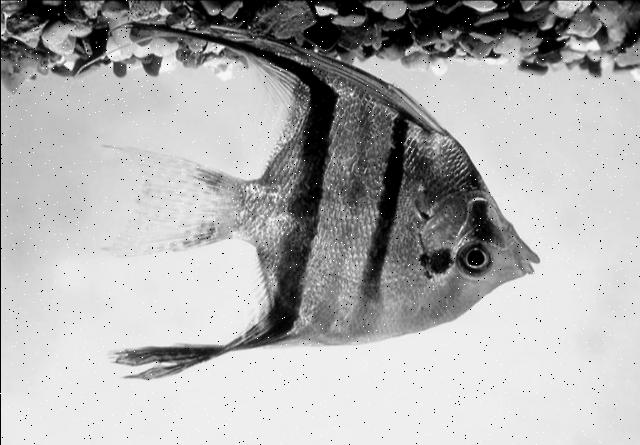Mulut: (506, 224, 560, 298)
Sirip Anal: (109, 9, 335, 139)
Sirip Ekor: (85, 136, 247, 268)
Sirip Punggung: (99, 275, 327, 401)
